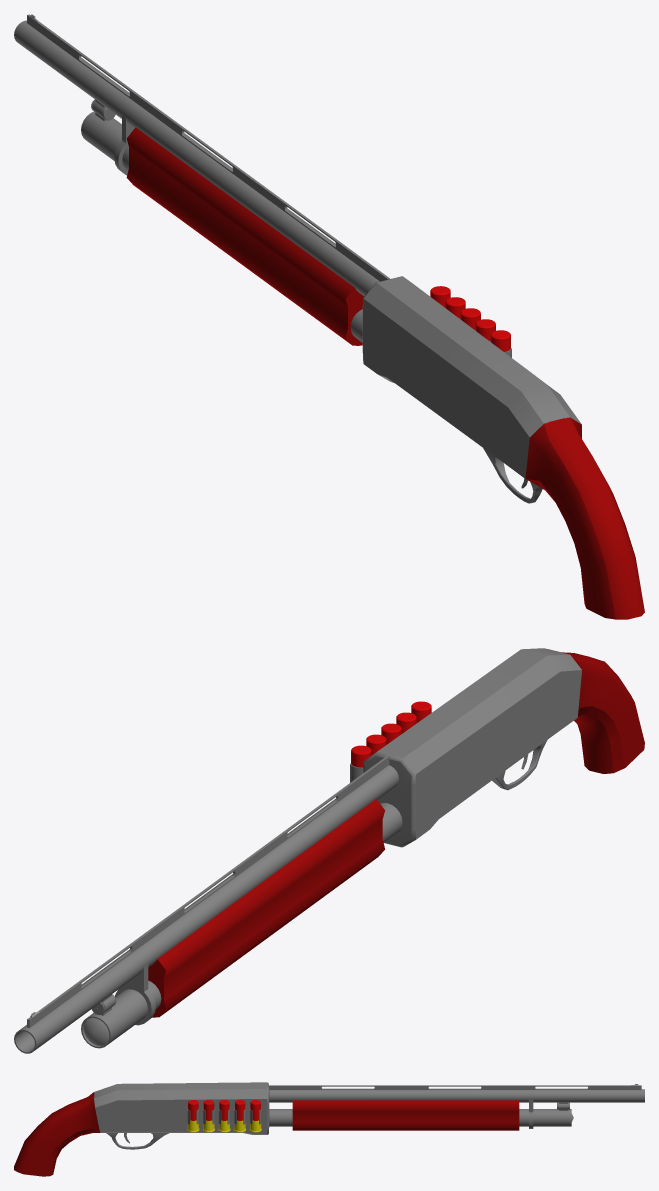
File: Shotty.fbx
The picture shows the model from 3 angles, top to bottom: view 1: azimuth 30°, elevation 25°; view 2: azimuth 150°, elevation 25°; view 3: azimuth 270°, elevation 25°; orthographic projection. The views are drawn at different scales.
Parts seen in each view (by area): view 1: GunBase, Pump, Stock, Barrel1, Sight, Barrel2, Bullet; view 2: GunBase, Pump, Barrel1, Stock, Sight, Barrel2, Bullet; view 3: Pump, GunBase, Barrel1, Stock, Sight, Bullet, Barrel2, pPipe1, TriggerHold.
Boxes of the visible parts, left/top/right/bottom form: GunBase: left=362, top=276, right=581, bottom=478; Pump: left=126, top=127, right=363, bottom=345; Stock: left=525, top=417, right=644, bottom=619; Barrel1: left=14, top=20, right=379, bottom=296; Sight: left=27, top=14, right=389, bottom=281; Barrel2: left=81, top=111, right=362, bottom=342; Bullet: left=430, top=286, right=510, bottom=351; GunBase: left=363, top=648, right=581, bottom=847; Pump: left=148, top=799, right=384, bottom=1017; Barrel1: left=14, top=765, right=398, bottom=1053; Stock: left=549, top=649, right=644, bottom=773; Sight: left=27, top=755, right=389, bottom=1027; Barrel2: left=81, top=803, right=402, bottom=1048; Bullet: left=351, top=701, right=431, bottom=767; Pump: left=292, top=1100, right=519, bottom=1130; GunBase: left=94, top=1082, right=269, bottom=1134; Barrel1: left=269, top=1089, right=644, bottom=1102; Stock: left=14, top=1092, right=100, bottom=1176; Sight: left=268, top=1085, right=641, bottom=1089; Bullet: left=187, top=1100, right=261, bottom=1132; Barrel2: left=269, top=1099, right=573, bottom=1128; pPipe1: left=198, top=1105, right=261, bottom=1124; TriggerHold: left=106, top=1133, right=169, bottom=1149.
Bounding box in the file's own units: 5.83 × 12.57 × 80.92.
